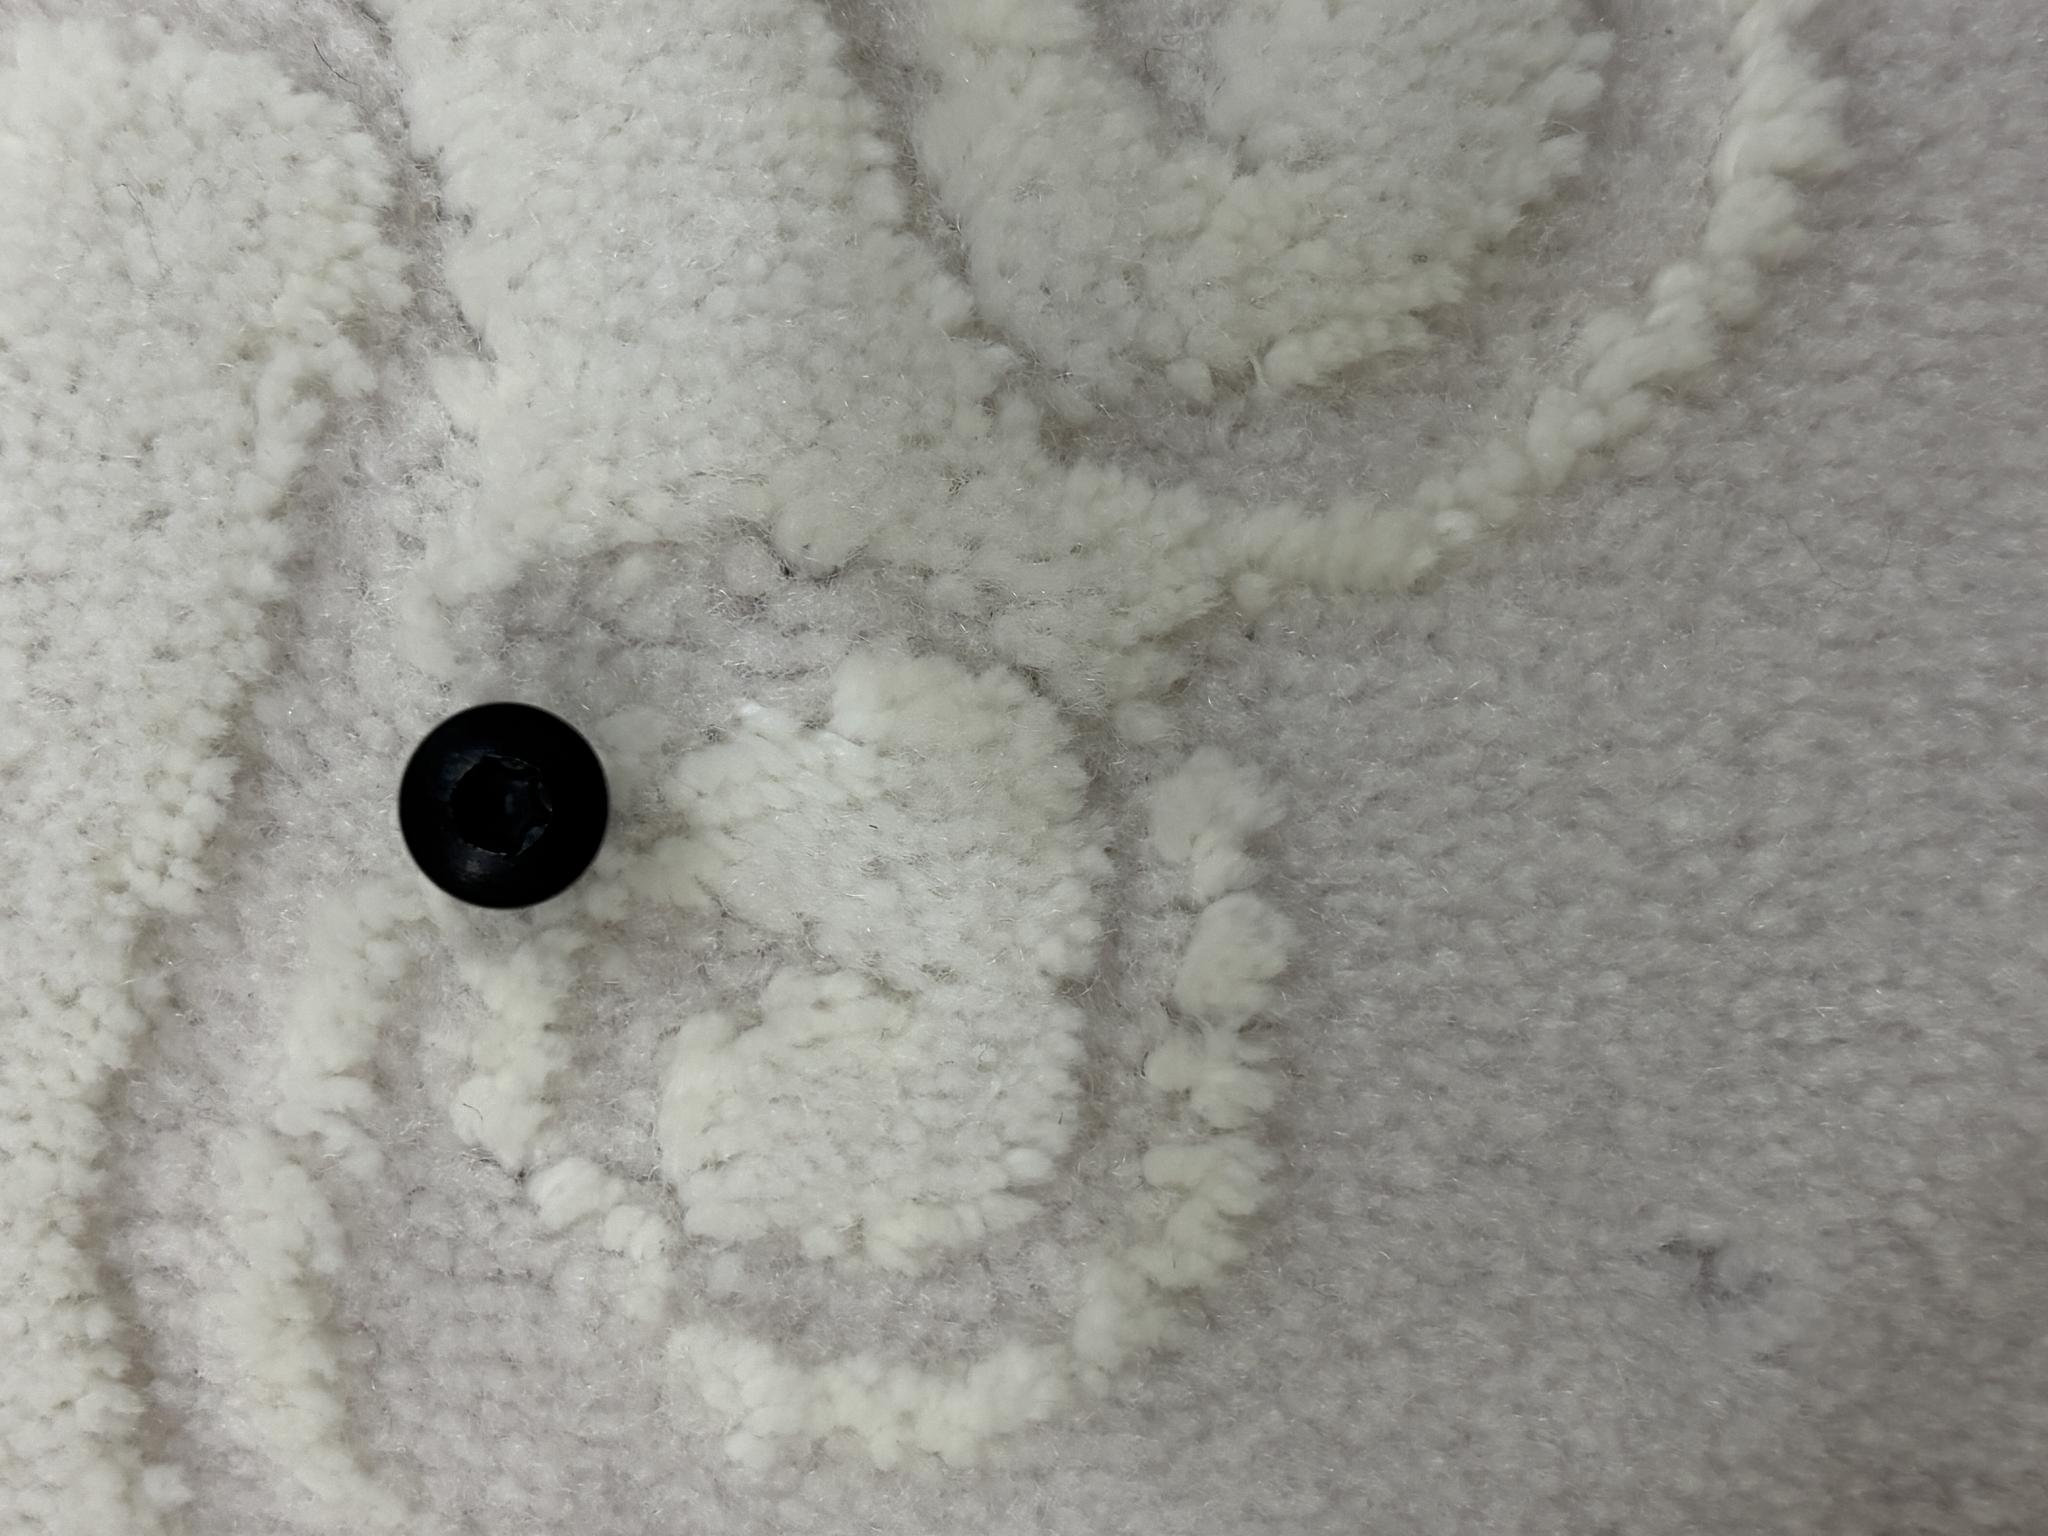H: (626, 399, 834, 608)
